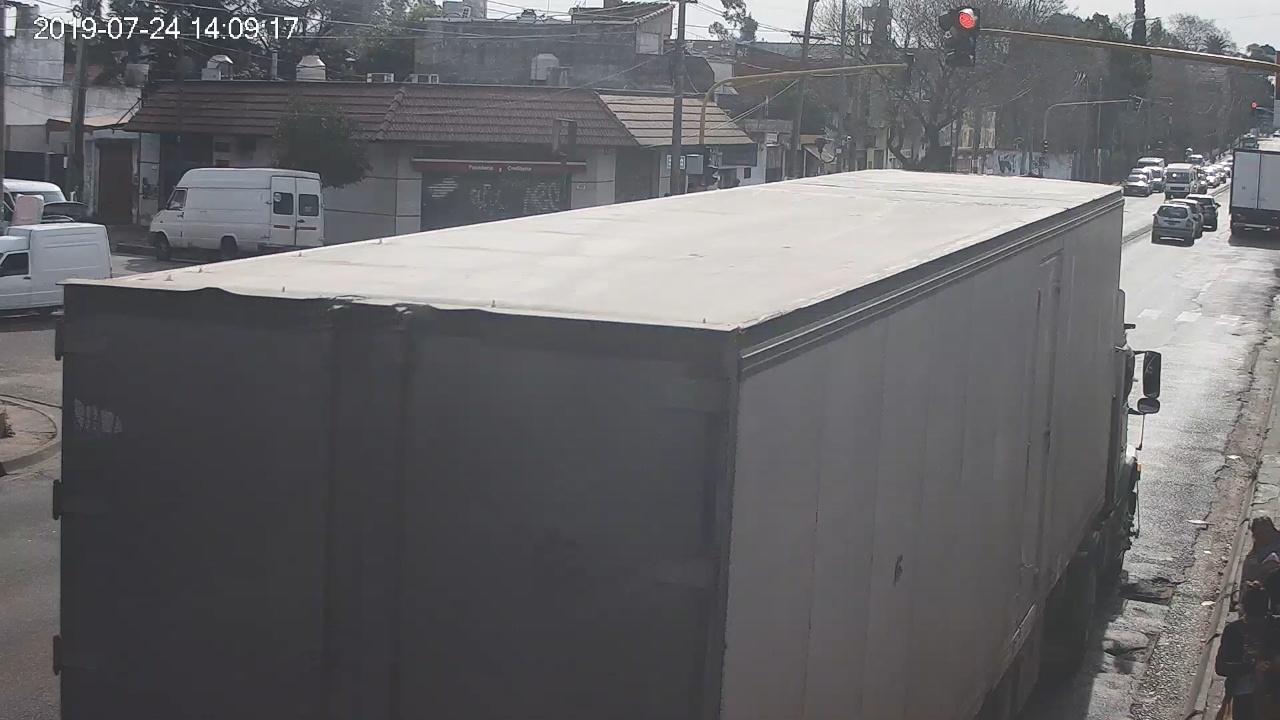traffic light: (957, 6, 978, 66)
truck: (54, 169, 1163, 720)
